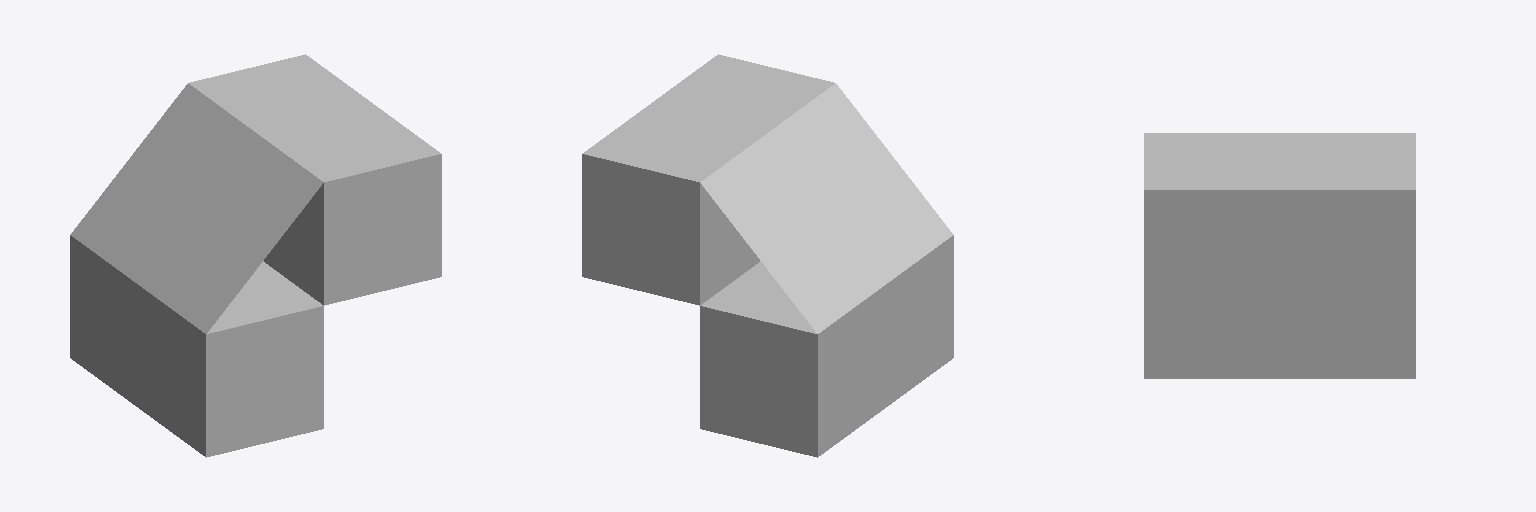
3 renders of one model, left to right at view 1: azimuth 30°, elevation 25°; view 2: azimuth 150°, elevation 25°; view 3: azimuth 270°, elevation 25°, orthographic.
Visible parts, largest first — view 1: tn, nw, TWN; view 2: tn, nw, TWN; view 3: nw, tn.
Part boxes in pixels (x1,y1,x2,y2): tn: (70, 235, 323, 457); nw: (189, 54, 441, 305); TWN: (71, 83, 323, 333); tn: (700, 235, 953, 457); nw: (582, 54, 834, 305); TWN: (700, 83, 952, 333); nw: (1144, 133, 1415, 312); tn: (1144, 313, 1415, 378).
Size of the model in its own units: 0.125 by 0.125 by 0.125.